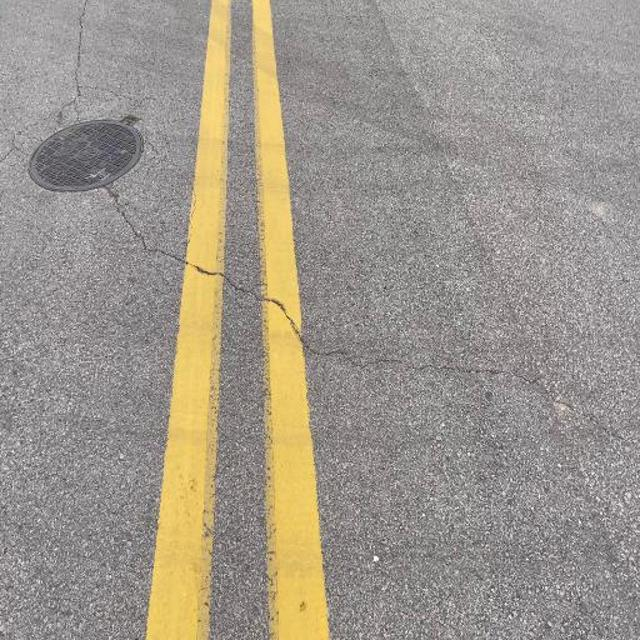Lubang: (32, 113, 153, 191)
